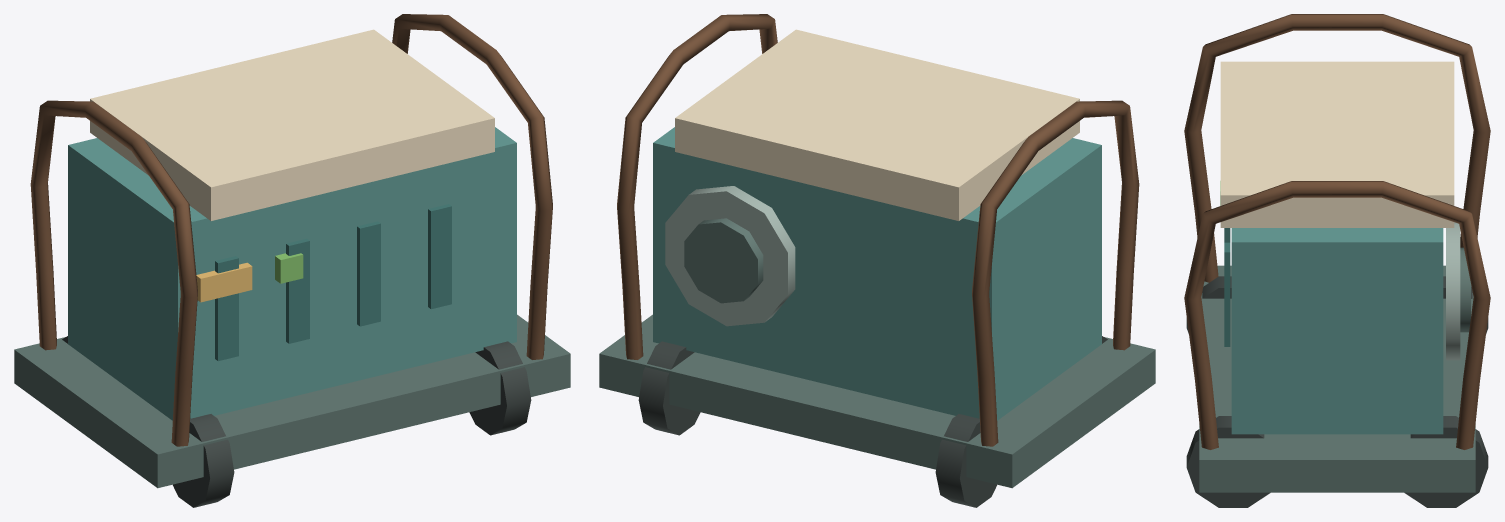
The model's file is mobile-generator.glb.
3 renders of one model, left to right at view 1: azimuth 30°, elevation 25°; view 2: azimuth 150°, elevation 25°; view 3: azimuth 270°, elevation 25°, orthographic. The views are drawn at different scales.
Visible parts, largest first — view 1: mobile-generator_teal, mobile-generator_cream, mobile-generator_metalDark, mobile-generator_woodDark, mobile-generator_tealDark, mobile-generator_tire, mobile-generator_gold, mobile-generator_statusReady; view 2: mobile-generator_teal, mobile-generator_cream, mobile-generator_metalDark, mobile-generator_woodDark, mobile-generator_metal, mobile-generator_tire; view 3: mobile-generator_teal, mobile-generator_cream, mobile-generator_woodDark, mobile-generator_metalDark, mobile-generator_tire, mobile-generator_metal, mobile-generator_tealDark.
Part boxes in pixels (x1,y1,x2,y2): mobile-generator_teal: [68, 127, 516, 420]; mobile-generator_cream: [90, 29, 494, 220]; mobile-generator_metalDark: [14, 314, 570, 488]; mobile-generator_woodDark: [30, 14, 552, 446]; mobile-generator_tealDark: [215, 204, 451, 361]; mobile-generator_tire: [62, 336, 531, 507]; mobile-generator_gold: [196, 262, 252, 302]; mobile-generator_statusReady: [275, 253, 303, 283]; mobile-generator_teal: [653, 127, 1101, 420]; mobile-generator_cream: [675, 29, 1079, 220]; mobile-generator_metalDark: [599, 218, 1155, 488]; mobile-generator_woodDark: [617, 14, 1139, 446]; mobile-generator_metal: [665, 186, 795, 326]; mobile-generator_tire: [638, 336, 1107, 507]; mobile-generator_teal: [1231, 228, 1443, 434]; mobile-generator_cream: [1220, 61, 1454, 227]; mobile-generator_woodDark: [1184, 14, 1490, 449]; mobile-generator_metalDark: [1199, 247, 1475, 492]; mobile-generator_tire: [1186, 276, 1488, 507]; mobile-generator_metal: [1446, 222, 1460, 360]; mobile-generator_tealDark: [1224, 228, 1230, 346].
Size of the model in its own units: 1.28 by 1.03 by 0.8531.
